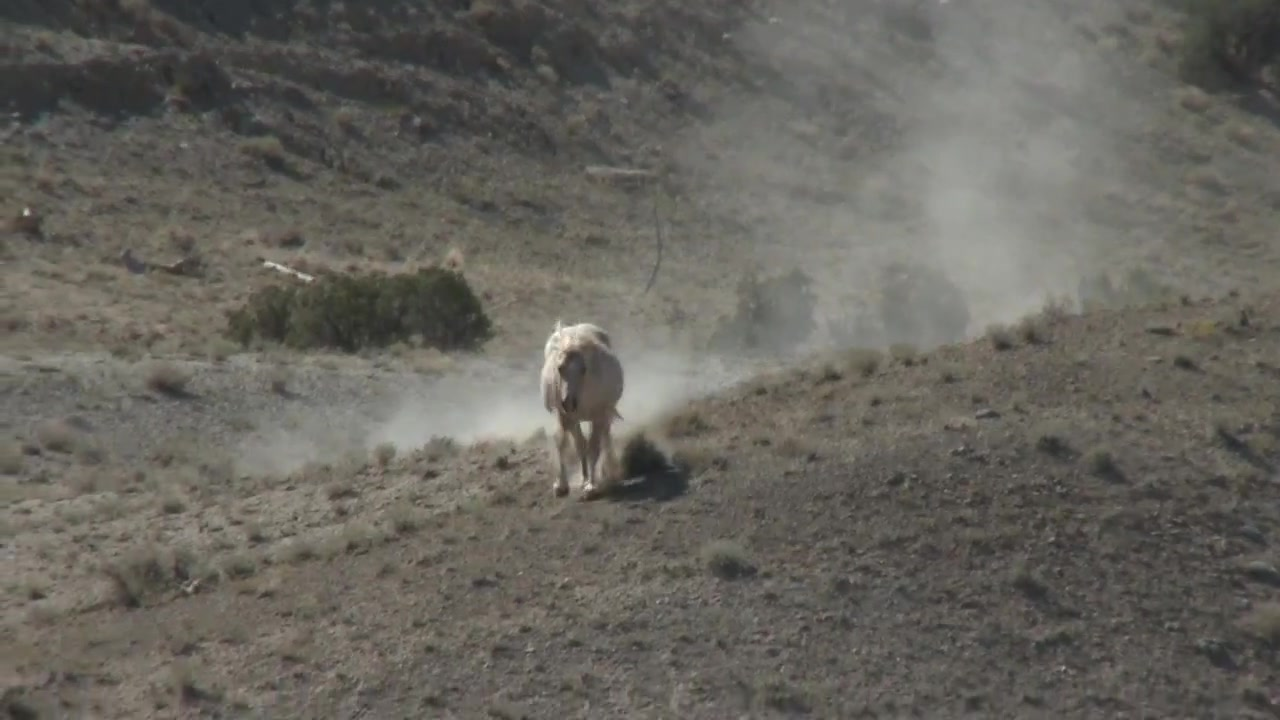horse: (543, 318, 623, 506)
